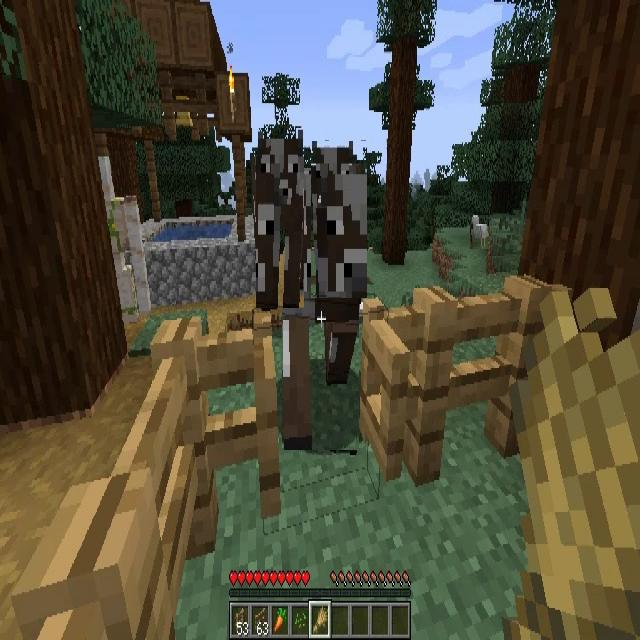cow: (282, 168, 359, 450), (311, 141, 367, 298), (256, 128, 304, 308)
duck: (470, 215, 488, 249)
people: (98, 155, 150, 359)
